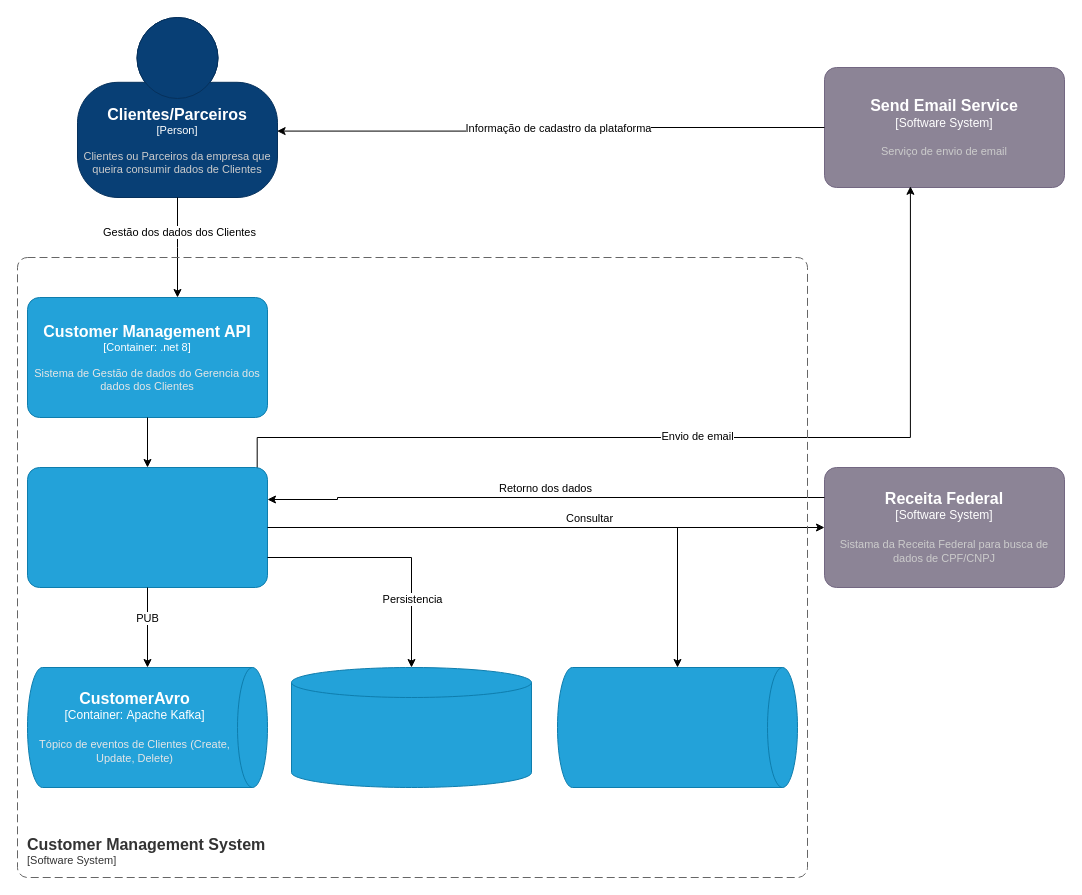
Image size: 1082x895. Some labels were removed from this diagram. The shapes that lost their labels are listed below. From the top down, each one's centre as x and y in pixels, then its label:
(x=147, y=527): Backend [Container: .Net 8] Core do processamento
(x=411, y=727): Database [Container: Mongo // InMemory] Persistencia dos dados
(x=677, y=727): Cache [Container: Redis]
